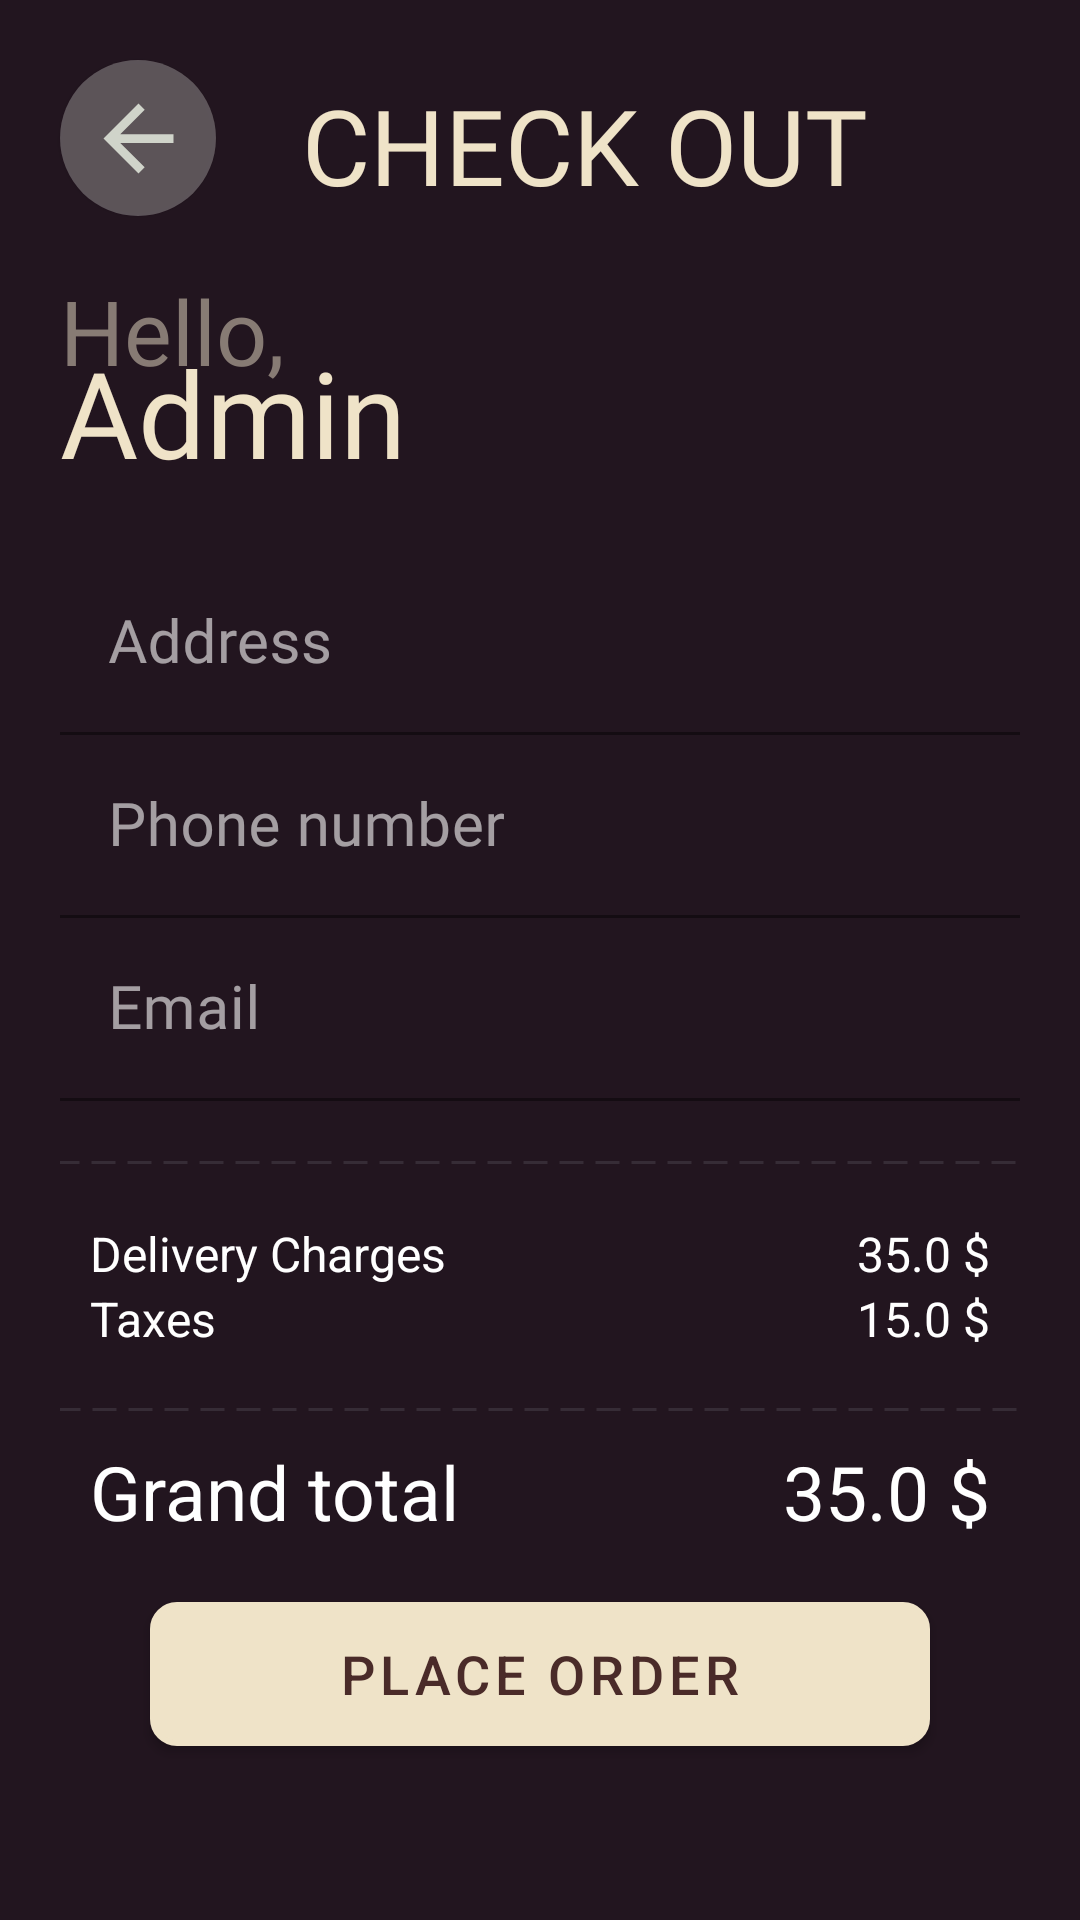

Icon bounding boxes for this 1080×1920 phone screenshot, format (x1, y1, x2, y2):
back: (60, 60, 216, 216)
